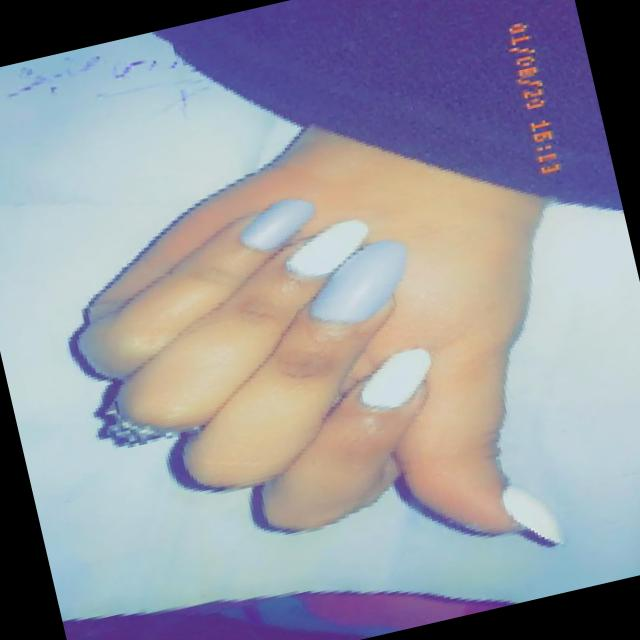Nail: (308, 239, 405, 322), (286, 218, 367, 276), (359, 347, 429, 407), (239, 198, 312, 250), (500, 484, 561, 543)
